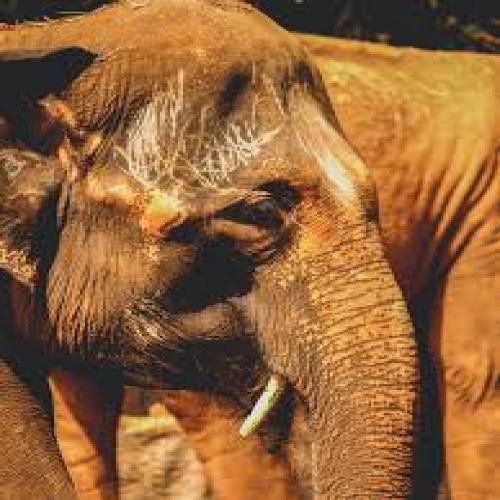asian_elephant-endangered: (0, 0, 426, 494)
